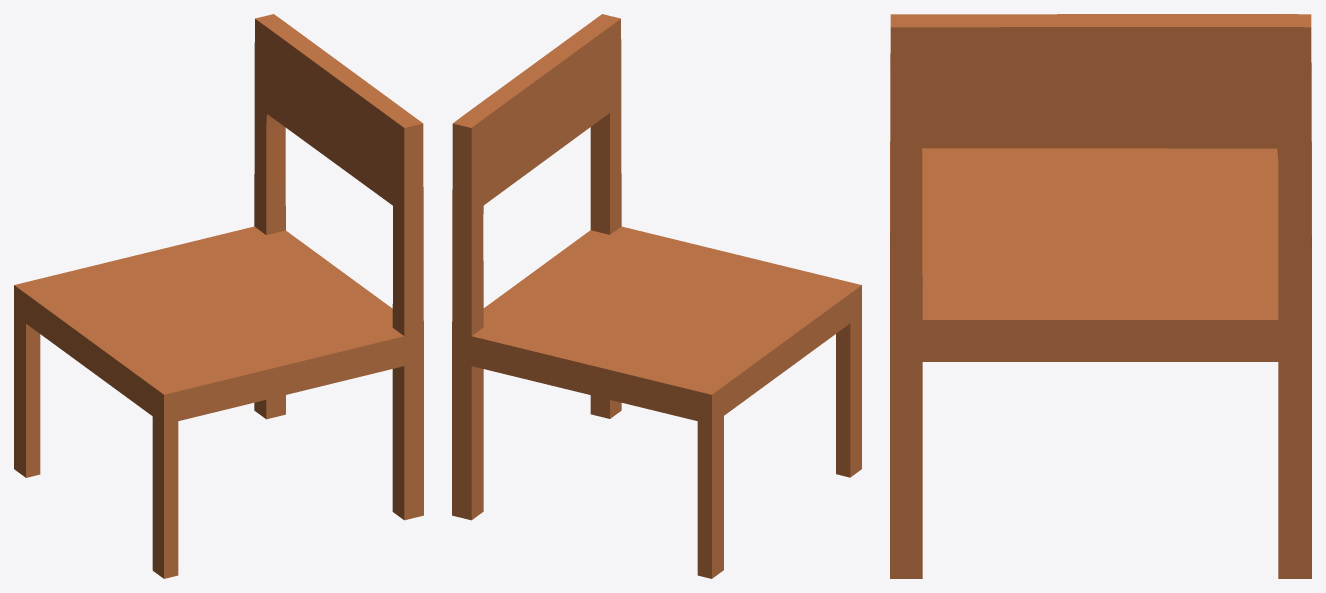
File: ChairFBX.fbx
3 views of the same model, side by side, from view 1: azimuth 30°, elevation 25°; view 2: azimuth 150°, elevation 25°; view 3: azimuth 270°, elevation 25° (orthographic). The views are drawn at different scales.
Parts seen in each view (by area): view 1: pCube1; view 2: pCube1; view 3: pCube1.
Boxes of the visible parts, x1=… form: pCube1: x1=14, y1=14, x2=423, y2=578; pCube1: x1=452, y1=14, x2=861, y2=578; pCube1: x1=890, y1=14, x2=1311, y2=578.
Bounding box in the file's own units: 4.27 × 6.16 × 4.27.
